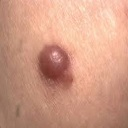Melanoma: (37, 43, 77, 84)
